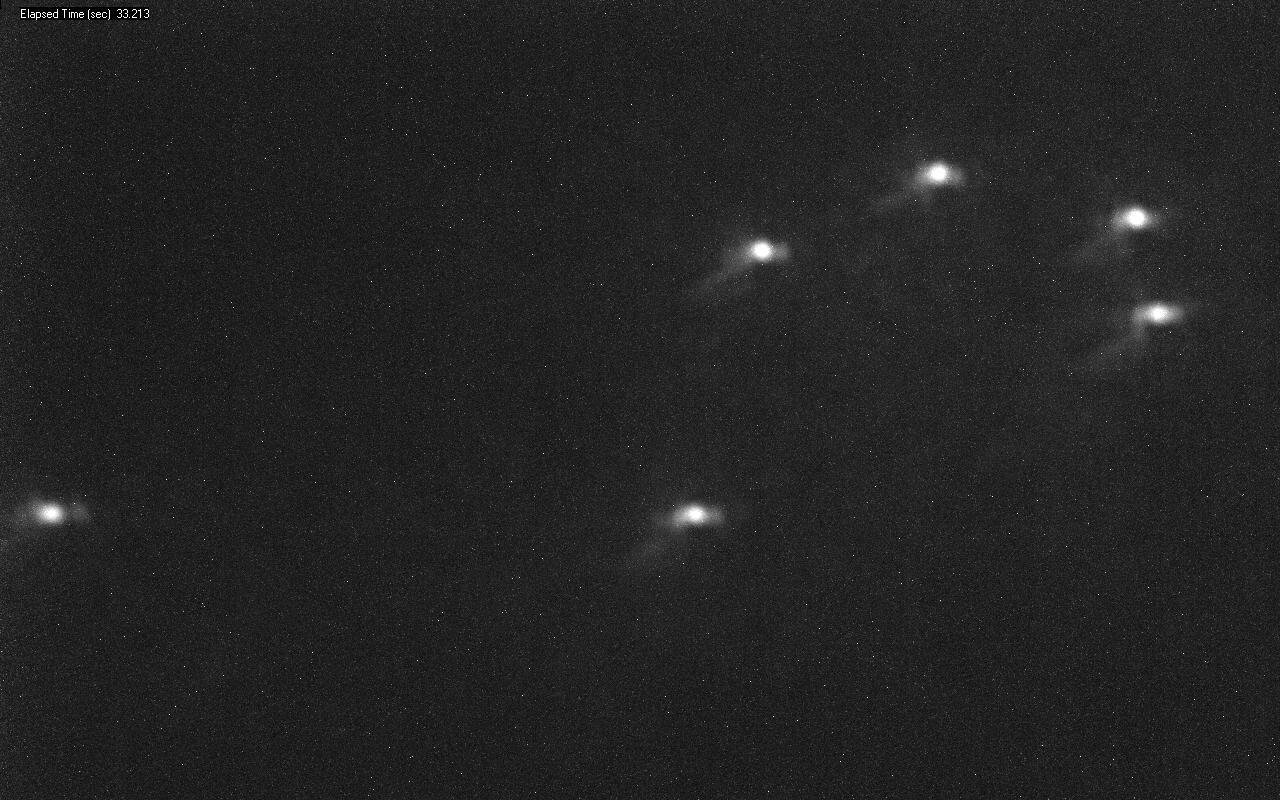Bead: (917, 161, 959, 187), (1114, 205, 1155, 231), (1136, 302, 1181, 324), (33, 502, 77, 524), (749, 239, 781, 263), (677, 506, 709, 522)
